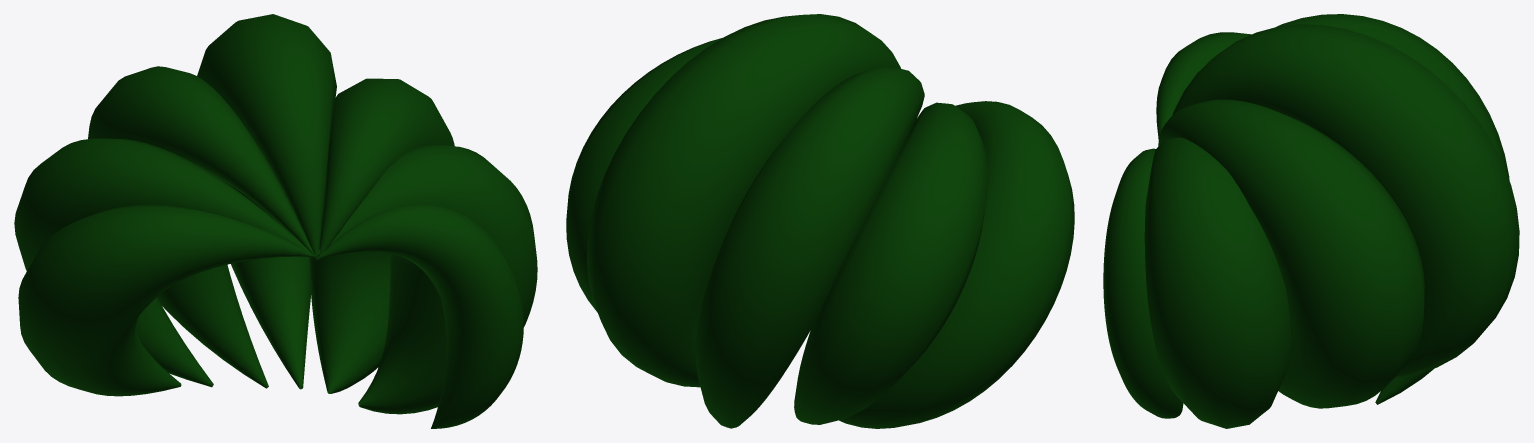
Rendered from yeşil kısa saç.fbx.
The picture shows the model from 3 angles, left to right: view 1: azimuth 30°, elevation 25°; view 2: azimuth 150°, elevation 25°; view 3: azimuth 270°, elevation 25°; orthographic projection. The views are drawn at different scales.
Parts seen in each view (by area): view 1: NurbsYolu; view 2: NurbsYolu; view 3: NurbsYolu.
Part boxes in pixels (x1,y1,x2,y2): NurbsYolu: (14, 14, 537, 428); NurbsYolu: (566, 14, 1074, 428); NurbsYolu: (1103, 14, 1519, 428).
Size of the model in its own units: 515 by 411 by 425.
